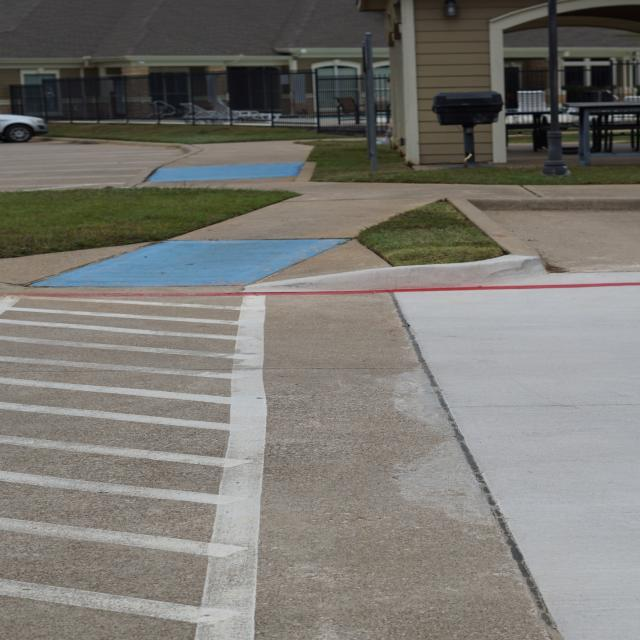Automobile: (0, 114, 47, 143)
Road: (0, 210, 640, 640), (0, 142, 186, 191)
Sidewalk: (2, 141, 640, 287)
